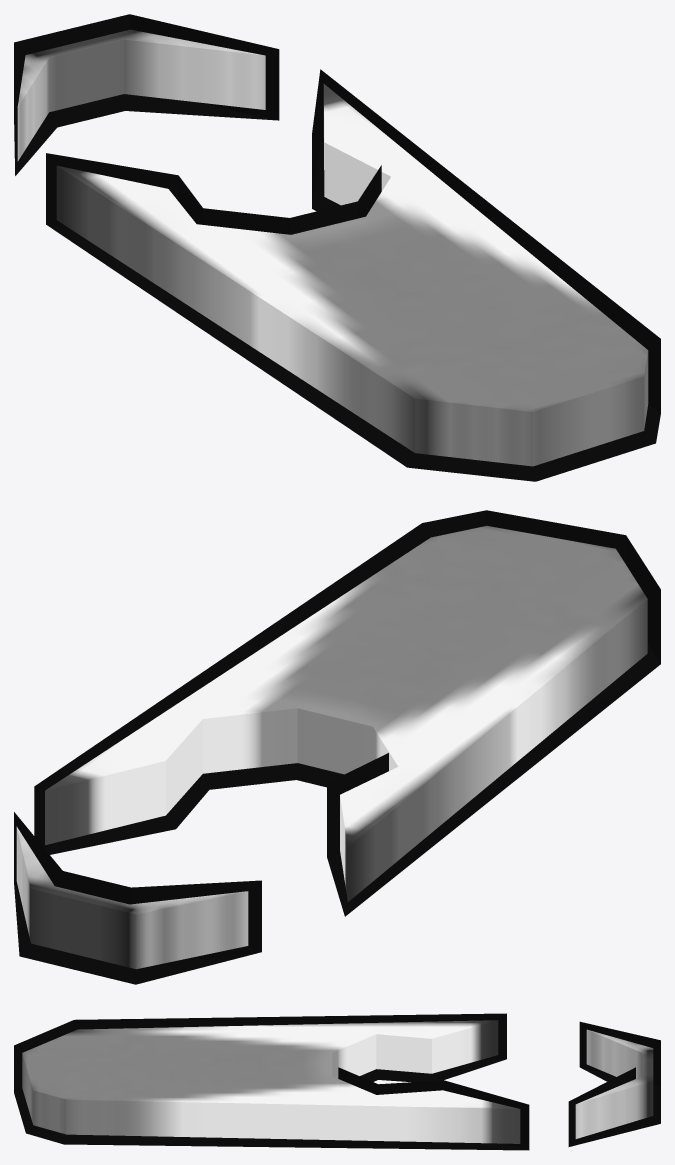
The model's file is Item_Apparel_PsyfocusShirt_Things_Pawn_Humanlike_Apparel_EltexShirt_EltexShirt_Thin.glb.
The picture shows the model from 3 angles, top to bottom: view 1: azimuth 30°, elevation 25°; view 2: azimuth 150°, elevation 25°; view 3: azimuth 270°, elevation 25°; orthographic projection. The views are drawn at different scales.
Parts seen in each view (by area): view 1: Body, Outline; view 2: Body, Outline; view 3: Body, Outline.
Boxes of the visible parts, x1,y1,x2,y2 form: Body: (17,29,648,466); Outline: (14,14,660,481); Body: (16,526,647,969); Outline: (14,510,660,984); Body: (22,1020,653,1143); Outline: (14,1013,660,1150).
Size of the model in its own units: 0.1523 by 0.0402 by 0.4566.
Materials: 2 (1 with a texture image).
